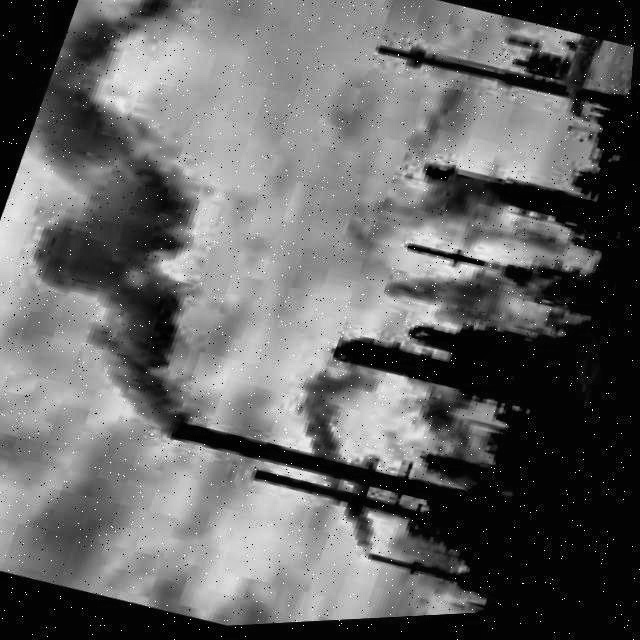Smoke: (0, 0, 348, 455), (235, 144, 568, 586)
